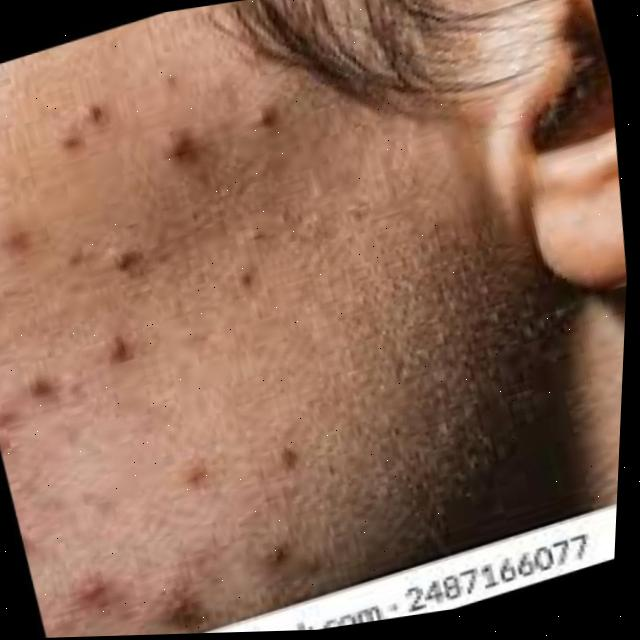Eczema: (0, 40, 398, 640)
